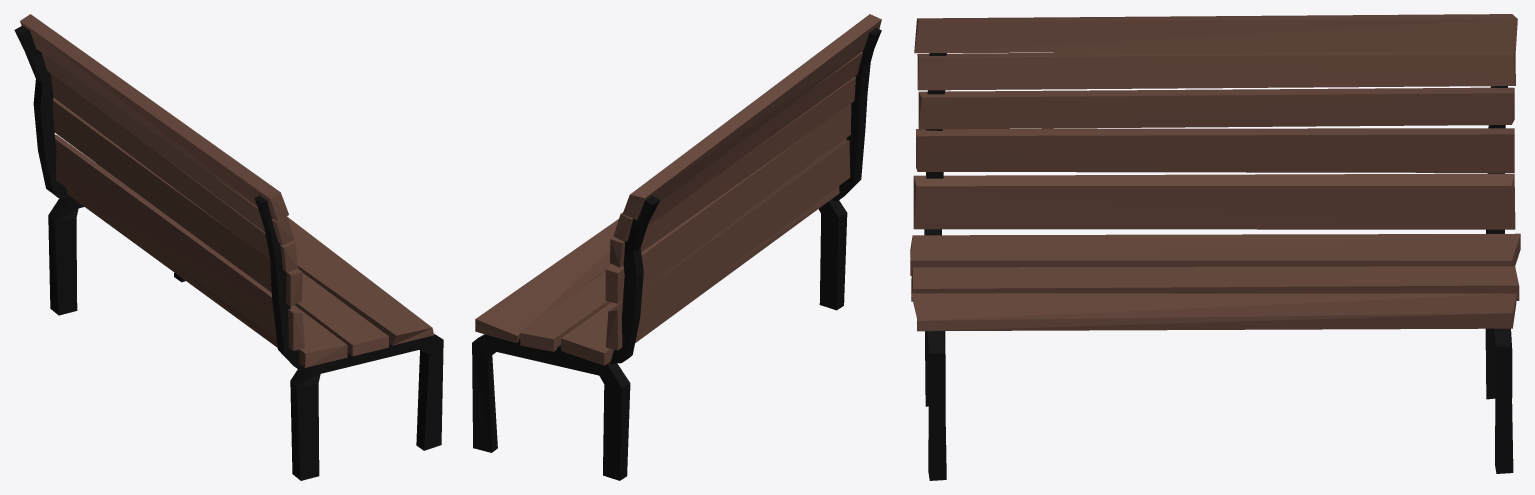
The picture shows the model from 3 angles, left to right: view 1: azimuth 30°, elevation 25°; view 2: azimuth 150°, elevation 25°; view 3: azimuth 270°, elevation 25°; orthographic projection. The views are drawn at different scales.
Parts seen in each view (by area): view 1: node_MeshObject-291240768-PolyPaper23; view 2: node_MeshObject-291240768-PolyPaper23; view 3: node_MeshObject-291240768-PolyPaper23.
Part boxes in pixels (x1,y1,x2,y2): node_MeshObject-291240768-PolyPaper23: (14,14,443,480); node_MeshObject-291240768-PolyPaper23: (472,14,881,480); node_MeshObject-291240768-PolyPaper23: (910,14,1520,480).
Bounding box in the file's own units: 0.3164 × 0.4693 × 0.7161.
